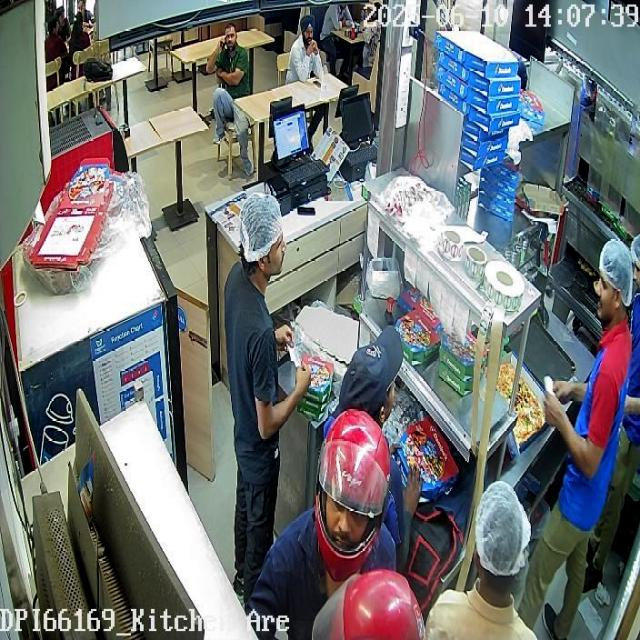helmet: (315, 409, 390, 581), (310, 569, 425, 639)
no_helmet: (473, 480, 531, 608), (338, 324, 404, 426), (239, 192, 287, 296), (595, 238, 633, 328)
